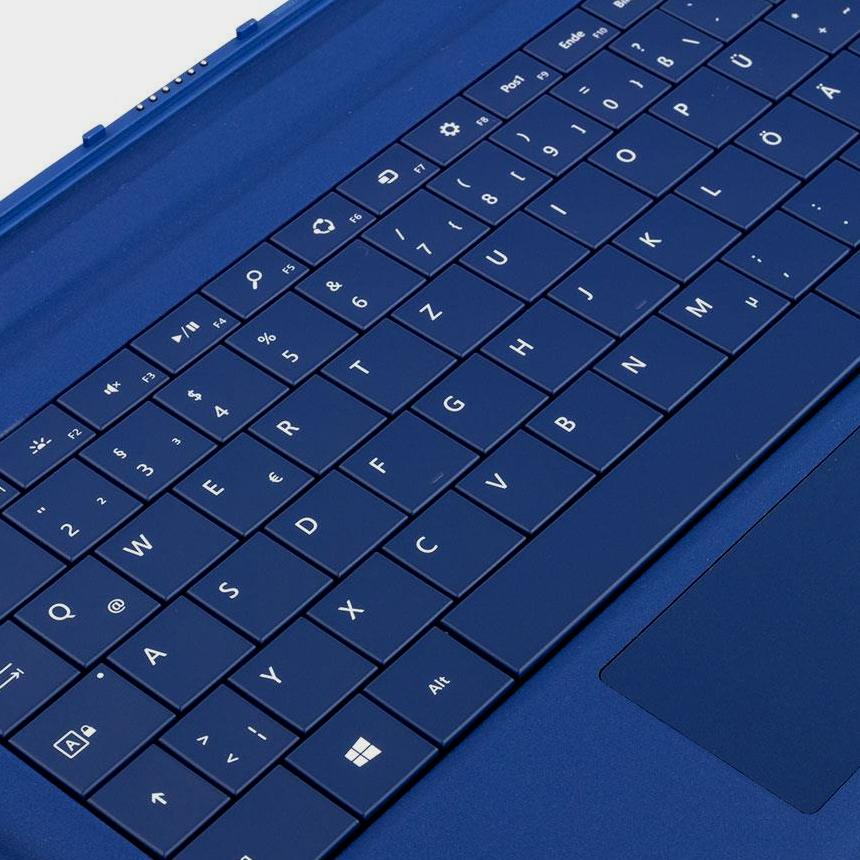0: (552, 47, 667, 127)
2: (3, 456, 140, 557)
3: (81, 398, 213, 497)
4: (155, 342, 282, 440)
5: (226, 291, 359, 387)
6: (295, 238, 420, 328)
7: (363, 187, 486, 273)
8: (429, 139, 550, 224)
9: (492, 91, 613, 176)
a: (106, 594, 254, 710)
accent: (658, 1, 774, 43)
ae: (791, 49, 860, 129)
alt-left: (362, 624, 515, 743)
altgr-right: (815, 239, 860, 330)
b: (522, 369, 659, 470)
c: (379, 488, 523, 597)
comma: (722, 208, 846, 295)
d: (263, 470, 403, 576)
del: (706, 1, 860, 41)
e: (172, 429, 309, 534)
f: (338, 409, 478, 513)
g: (410, 353, 545, 451)
h: (479, 297, 613, 391)
i: (524, 163, 651, 246)
j: (547, 243, 676, 335)
k: (610, 192, 739, 280)
keyboard: (1, 1, 860, 860)
l: (672, 143, 798, 228)
less: (159, 681, 298, 793)
m: (657, 260, 789, 352)
n: (596, 318, 728, 410)
o: (583, 112, 710, 195)
oe: (731, 97, 855, 177)
p: (649, 65, 765, 145)
plus: (763, 1, 860, 57)
point: (782, 157, 860, 243)
q: (10, 553, 159, 665)
r: (247, 373, 382, 470)
s: (189, 533, 329, 639)
shift-left: (86, 744, 225, 856)
shift-lock: (2, 660, 176, 797)
space: (439, 289, 860, 674)
ss: (614, 8, 720, 82)
strg-left: (173, 761, 358, 860)
t: (319, 314, 450, 411)
tab: (1, 622, 79, 734)
u: (458, 209, 583, 298)
ue: (707, 20, 822, 98)
v: (450, 426, 593, 533)
w: (92, 492, 233, 595)
x: (299, 548, 450, 664)
y: (225, 612, 375, 733)
z: (388, 260, 520, 354)
